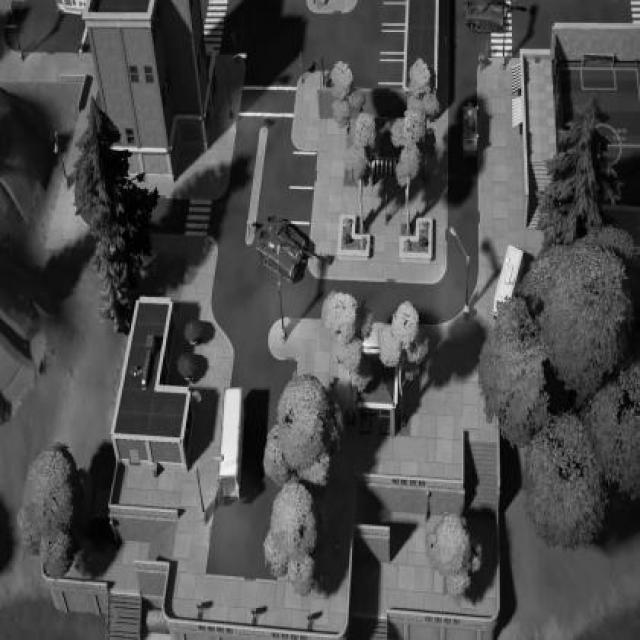tank: (255, 212, 313, 285), (465, 0, 524, 35)
